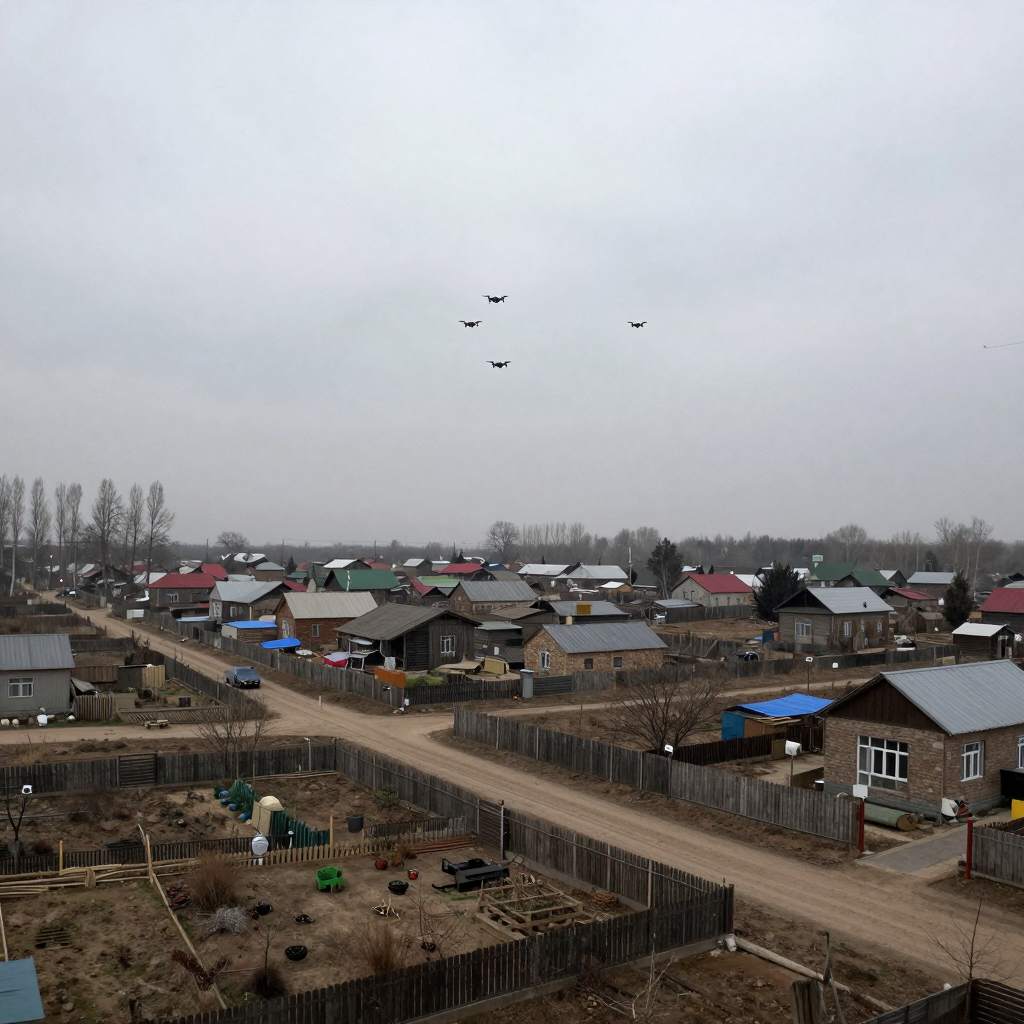drone: (481, 295, 508, 304), (486, 361, 511, 369), (458, 320, 483, 328), (627, 321, 647, 328)
